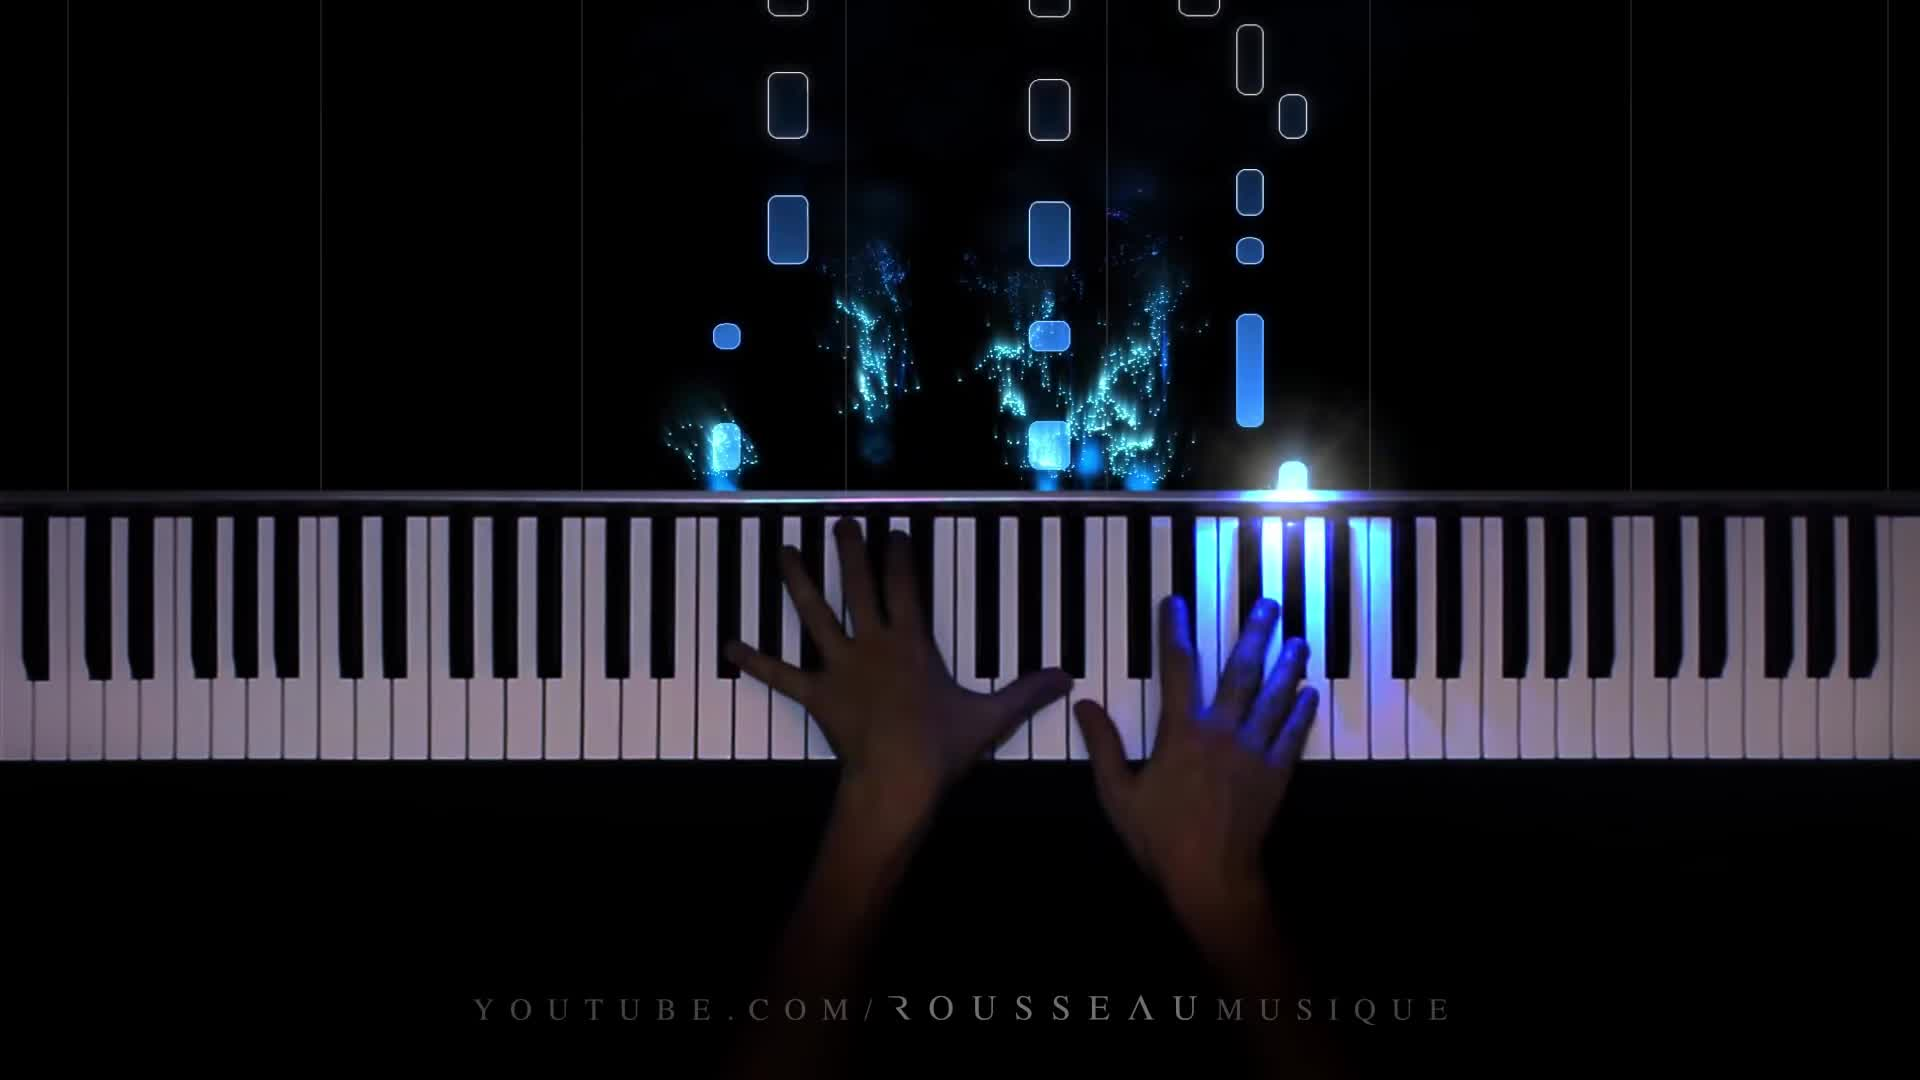left: (723, 513, 1075, 786)
right: (1077, 584, 1320, 866)
